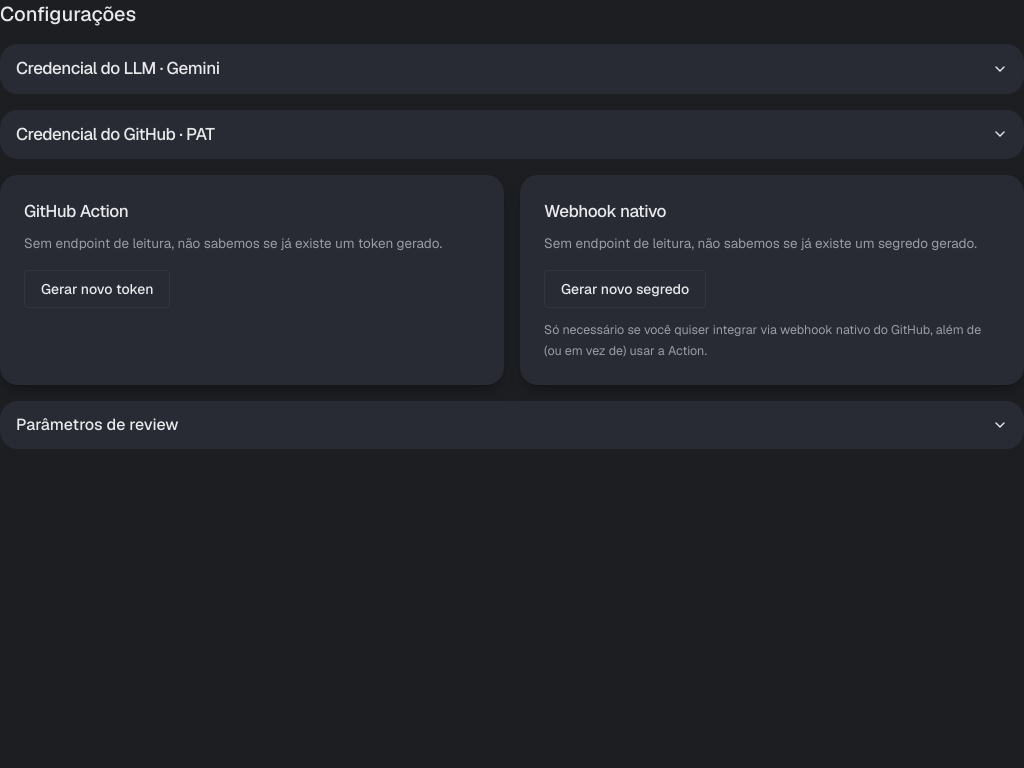
Scenario: SettingsPage › always requires confirmation before generating a token, even for a repo with no credentials at all
Click the button "Gerar novo token" at (97, 289), box [24, 270, 170, 308]
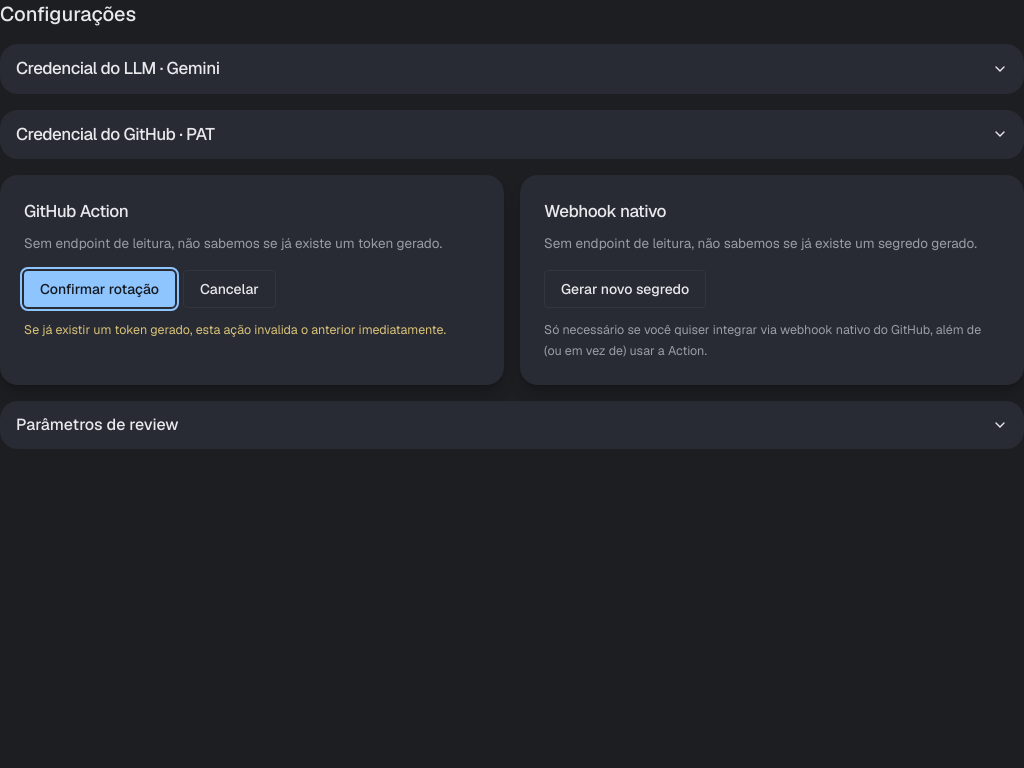
Check: the text "Se já existir um token gerado, esta ação invalida o anterior imediatamente." is shown, box [24, 320, 480, 341]
Click the button "Confirmar rotação" at (99, 289), box [24, 271, 175, 307]
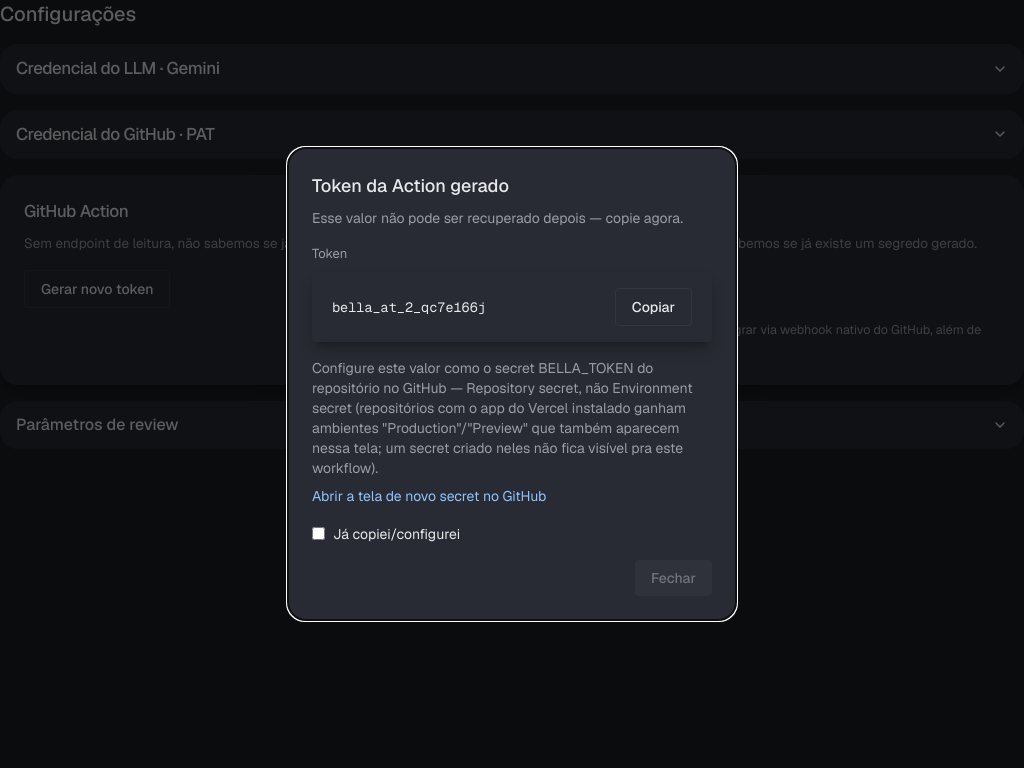
Check: the dialog is shown, box [288, 148, 736, 620]
